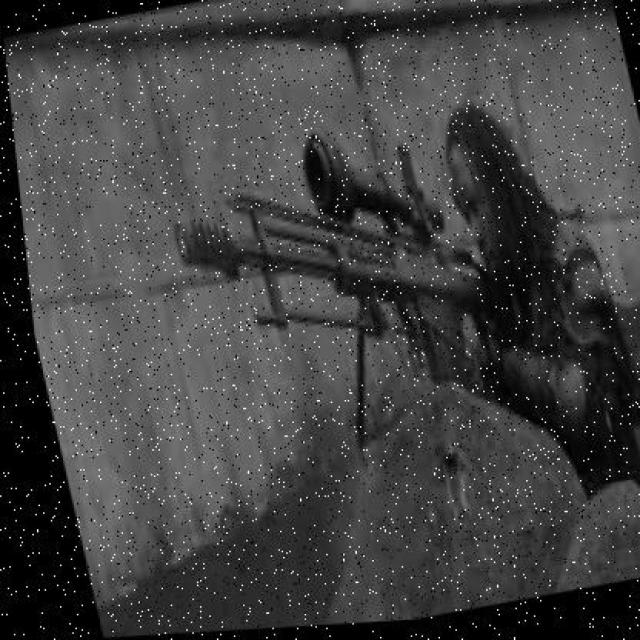weapon: (172, 133, 506, 455)
